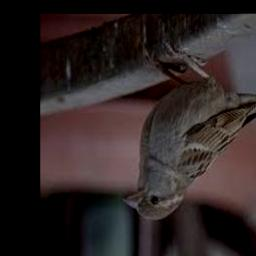Sparrow: (121, 42, 256, 221)
